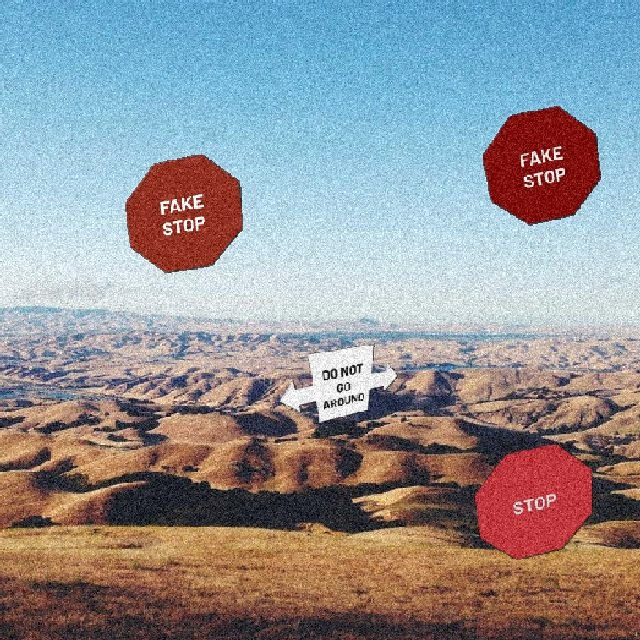DO_NOT_GO_AROUND: (277, 342, 397, 422)
FAKE_STOP: (480, 104, 600, 224), (123, 152, 242, 272)
STOP: (472, 441, 592, 559)
